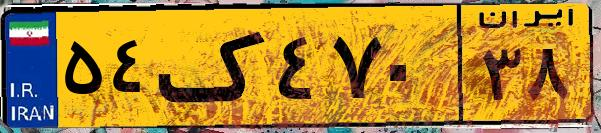0: (385, 28, 445, 110)
3: (475, 38, 525, 113)
4: (270, 28, 330, 110), (110, 28, 158, 98)
5: (57, 26, 110, 100)
7: (330, 28, 385, 110)
8: (525, 38, 570, 115)
ک: (158, 12, 270, 120)
